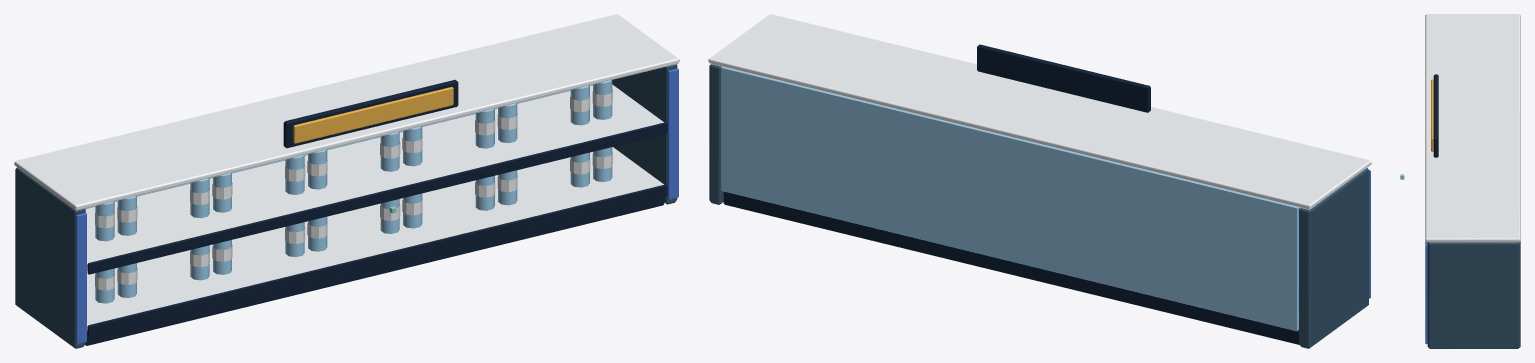
The model's file is CM_Fixture_WaterShelf.fbx.
3 renders of one model, left to right at view 1: azimuth 30°, elevation 25°; view 2: azimuth 150°, elevation 25°; view 3: azimuth 270°, elevation 25°, orthographic. The views are drawn at different scales.
Parts seen in each view (by area): view 1: Body, PriceTag, Item9, Item10, Item11, Item12, Item7, Item8, Item5, Item6, Item3, Item1 (+2 smaller); view 2: Body; view 3: Body, PriceTag.
Boxes of the visible parts, <box> form: Body: <box>14,14,679,348</box>; PriceTag: <box>293,87,453,143</box>; Item9: <box>285,149,327,194</box>; Item10: <box>380,126,422,171</box>; Item11: <box>475,103,517,148</box>; Item12: <box>570,80,612,125</box>; Item7: <box>95,196,137,241</box>; Item8: <box>190,172,232,218</box>; Item5: <box>475,170,517,210</box>; Item6: <box>570,147,612,187</box>; Item3: <box>285,216,327,257</box>; Item1: <box>95,263,137,303</box>; Body: <box>708,14,1371,348</box>; Body: <box>1425,14,1520,348</box>; PriceTag: <box>1431,79,1433,151</box>.
Size of the model in its own units: 28 by 6.3 by 7.6.
Materials: 1 (1 with a texture image).
